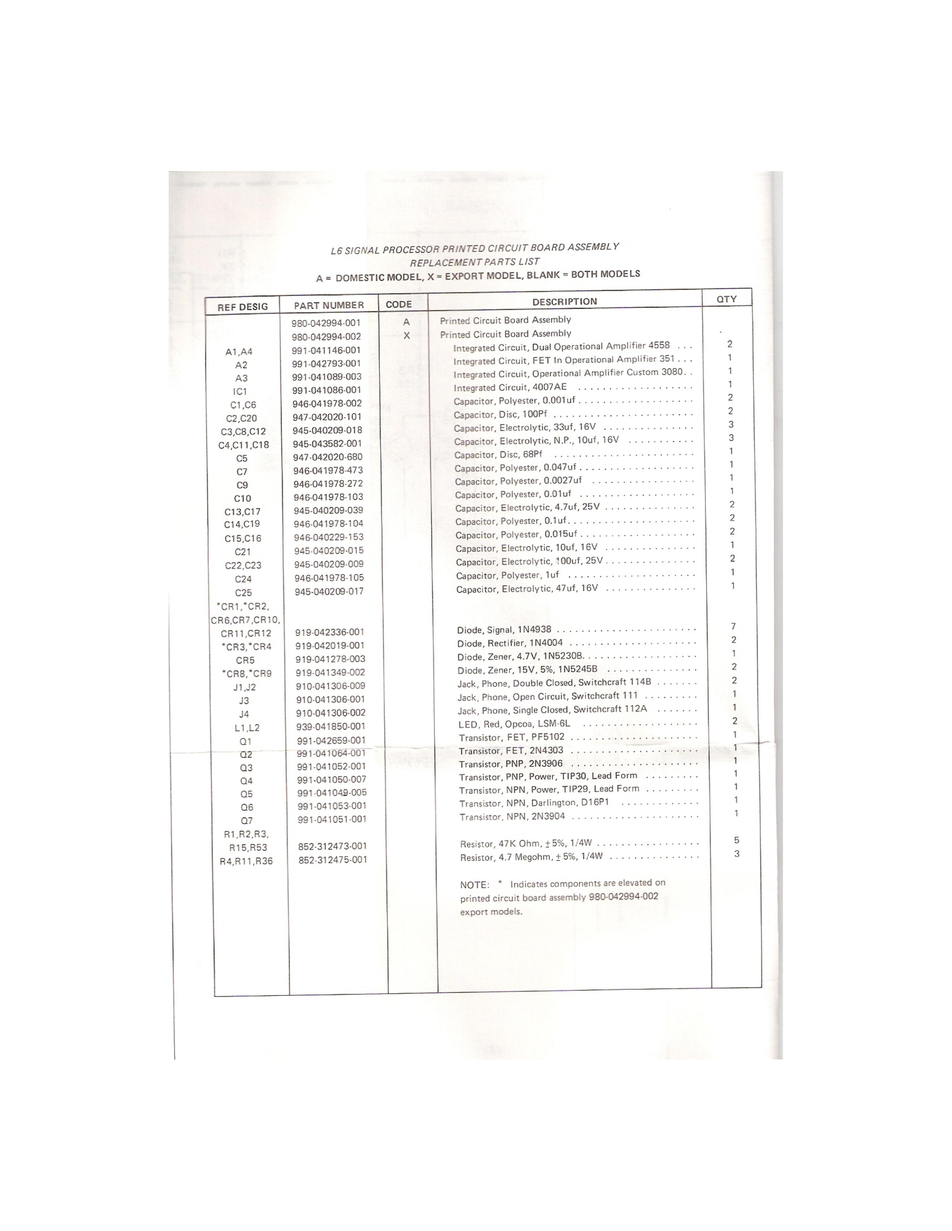A1: (225, 347, 237, 357)
A2: (235, 360, 249, 370)
A3: (234, 373, 249, 383)
A4: (240, 347, 253, 357)
C1: (229, 400, 241, 411)
C10: (234, 493, 252, 503)
C11: (232, 440, 249, 449)
C12: (249, 427, 267, 435)
C13: (224, 507, 242, 516)
C14: (224, 520, 241, 529)
C15: (225, 533, 241, 543)
C16: (244, 533, 263, 543)
C17: (244, 507, 262, 516)
C18: (252, 440, 270, 449)
C19: (243, 519, 261, 528)
C2: (225, 414, 237, 423)
C20: (240, 414, 258, 424)
C21: (234, 547, 251, 557)
C22: (224, 561, 242, 570)
C23: (244, 561, 262, 570)
C24: (234, 574, 253, 584)
C25: (234, 588, 253, 598)
C3: (220, 427, 232, 436)
C4: (218, 441, 230, 450)
C5: (234, 453, 248, 464)
C6: (244, 401, 257, 409)
C7: (236, 467, 248, 476)
C8: (235, 426, 247, 437)
C9: (237, 480, 249, 489)
CR1: (221, 602, 239, 611)
CR10: (253, 615, 277, 624)
CR11: (220, 629, 243, 638)
CR12: (247, 629, 272, 638)
CR2: (248, 602, 267, 610)
CR3: (225, 643, 245, 651)
CR4: (252, 643, 272, 651)
CR5: (235, 655, 255, 665)
CR6: (210, 616, 230, 625)
CR7: (232, 616, 250, 625)
CR8: (226, 669, 246, 679)
CR9: (253, 669, 272, 678)
IC1: (231, 388, 249, 397)
J1: (233, 683, 242, 691)
J2: (246, 682, 256, 692)
J3: (238, 697, 250, 705)
J4: (239, 710, 250, 719)
L1: (233, 723, 245, 732)
L2: (249, 723, 261, 733)
Q1: (239, 737, 253, 747)
Q2: (240, 751, 253, 759)
Q3_4: (240, 764, 253, 773)
Q4: (240, 777, 253, 785)
Q5: (240, 790, 253, 799)
Q6: (240, 803, 254, 812)
Q7: (240, 816, 254, 825)
R1: (223, 830, 235, 839)
R11: (234, 857, 251, 866)
R15: (229, 843, 247, 852)
R2: (238, 830, 251, 839)
R3: (254, 829, 267, 838)
R36: (255, 857, 274, 866)
R4: (219, 858, 231, 866)
R53: (249, 843, 268, 853)
